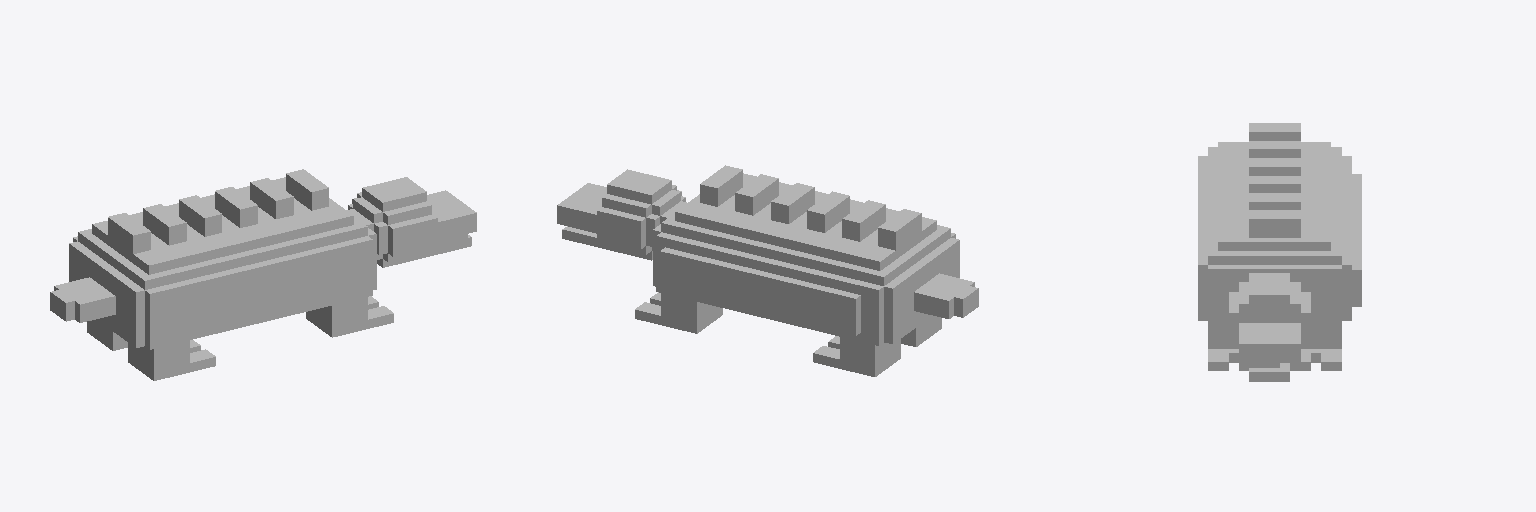
File: jacare.obj
3 renders of one model, left to right at view 1: azimuth 30°, elevation 25°; view 2: azimuth 150°, elevation 25°; view 3: azimuth 270°, elevation 25°, orthographic.
Visible parts, largest first — view 1: object 1; view 2: object 1; view 3: object 1.
Boxes of the visible parts, <box> form: object 1: <box>50,169,476,380</box>; object 1: <box>557,165,978,376</box>; object 1: <box>1198,123,1361,381</box>.
Size of the model in its own units: 4.5 by 1.4 by 1.6.